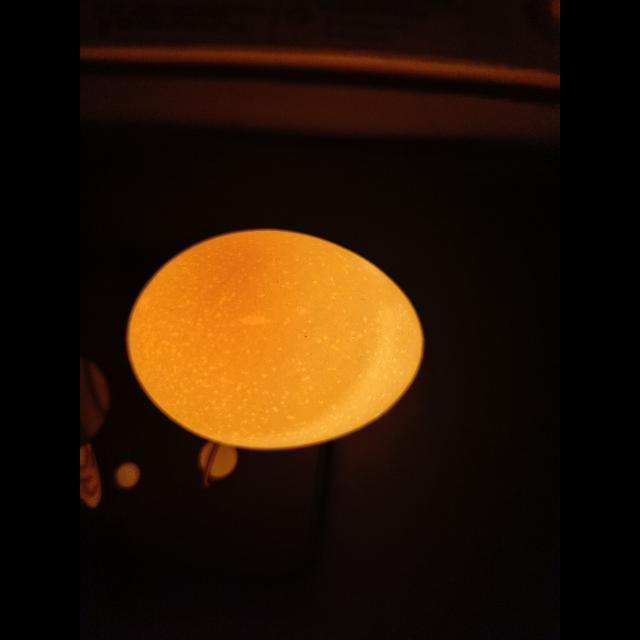AA - Premium: (128, 230, 424, 449)
